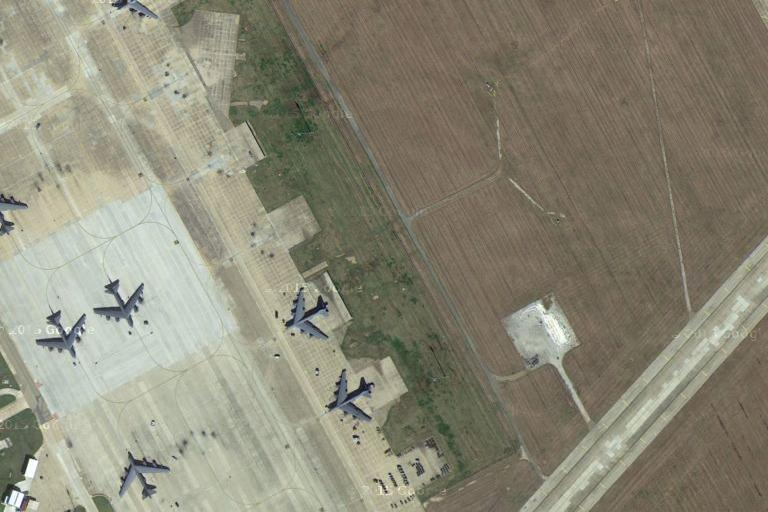B-52: (110, 445, 174, 502), (31, 305, 92, 361), (321, 366, 377, 425), (92, 277, 152, 331), (280, 285, 334, 341)
